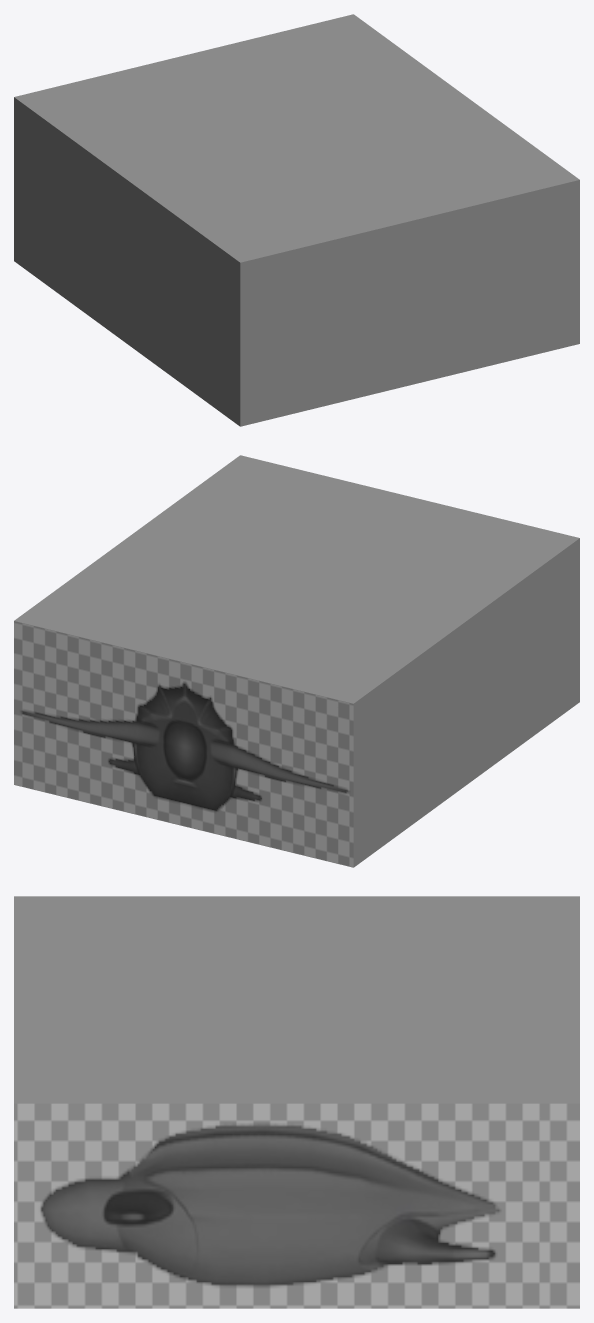
The model's file is Turtle Mesh.FBX.
3 views of the same model, one above another, from view 1: azimuth 30°, elevation 25°; view 2: azimuth 150°, elevation 25°; view 3: azimuth 270°, elevation 25° (orthographic). The views are drawn at different scales.
Parts seen in each view (by area): view 1: Reference Box; view 2: Reference Box; view 3: Reference Box.
Part boxes in pixels (bbox=[...]): Reference Box: bbox=[14, 14, 579, 426]; Reference Box: bbox=[14, 455, 579, 867]; Reference Box: bbox=[14, 896, 579, 1308].
Bounding box in the file's own units: 130 × 60 × 150.
6 materials, 3 textured.
